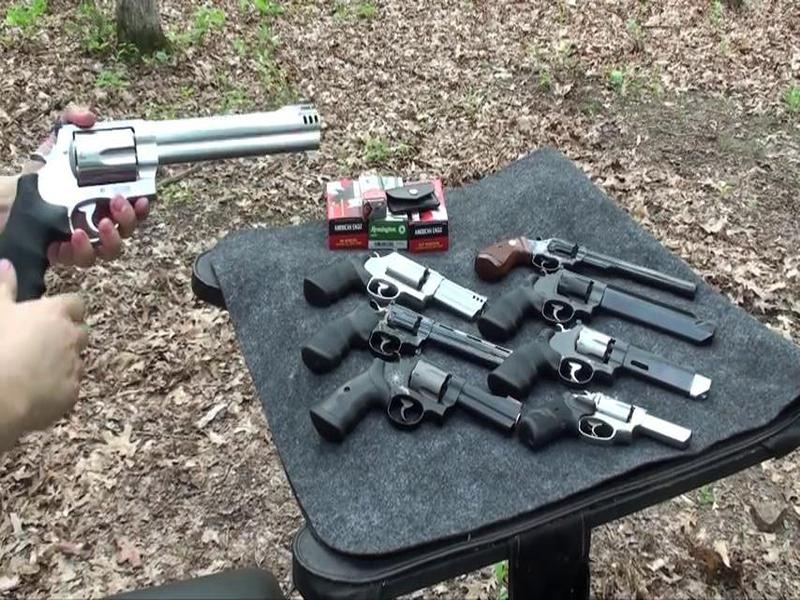Revolver: (1, 74, 341, 304)
